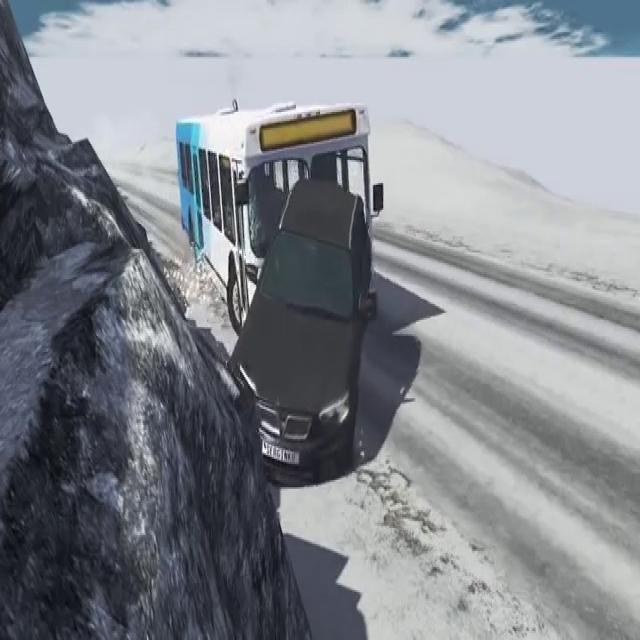severe: (166, 81, 385, 487)
